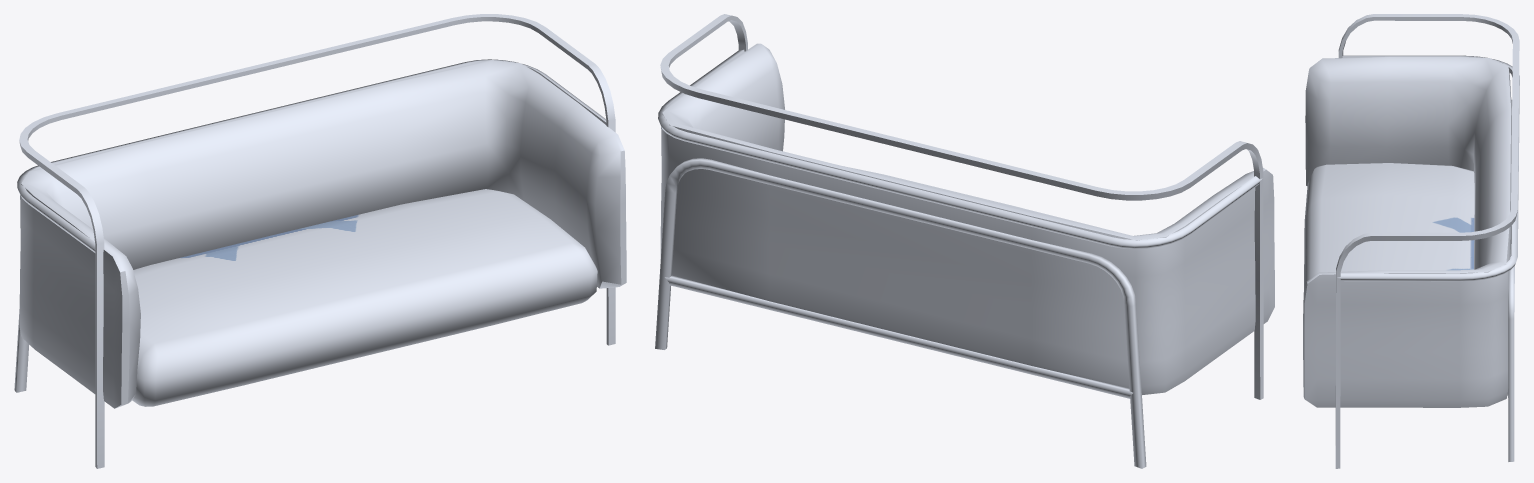
Rendered from Sofa.fbx.
3 views of the same model, side by side, from view 1: azimuth 30°, elevation 25°; view 2: azimuth 150°, elevation 25°; view 3: azimuth 270°, elevation 25° (orthographic). The views are drawn at different scales.
Parts seen in each view (by area): view 1: EH_A02_Sofa01; view 2: EH_A02_Sofa01; view 3: EH_A02_Sofa01.
Part boxes in pixels (x1,y1,x2,y2): EH_A02_Sofa01: (14, 14, 626, 468); EH_A02_Sofa01: (655, 14, 1274, 468); EH_A02_Sofa01: (1303, 14, 1519, 468).
Bounding box in the file's own units: 48.11 × 23.53 × 19.83.
